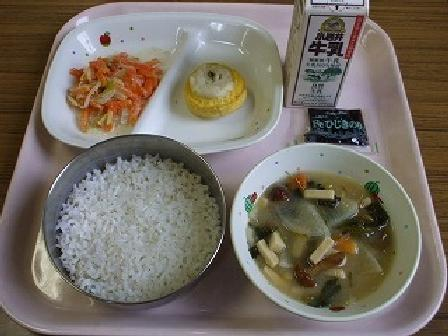Milk: (272, 0, 381, 119)
Rice: (45, 131, 216, 319)
Salad: (66, 45, 165, 139)
Soups: (241, 155, 422, 299)
snacks: (176, 49, 256, 127)
